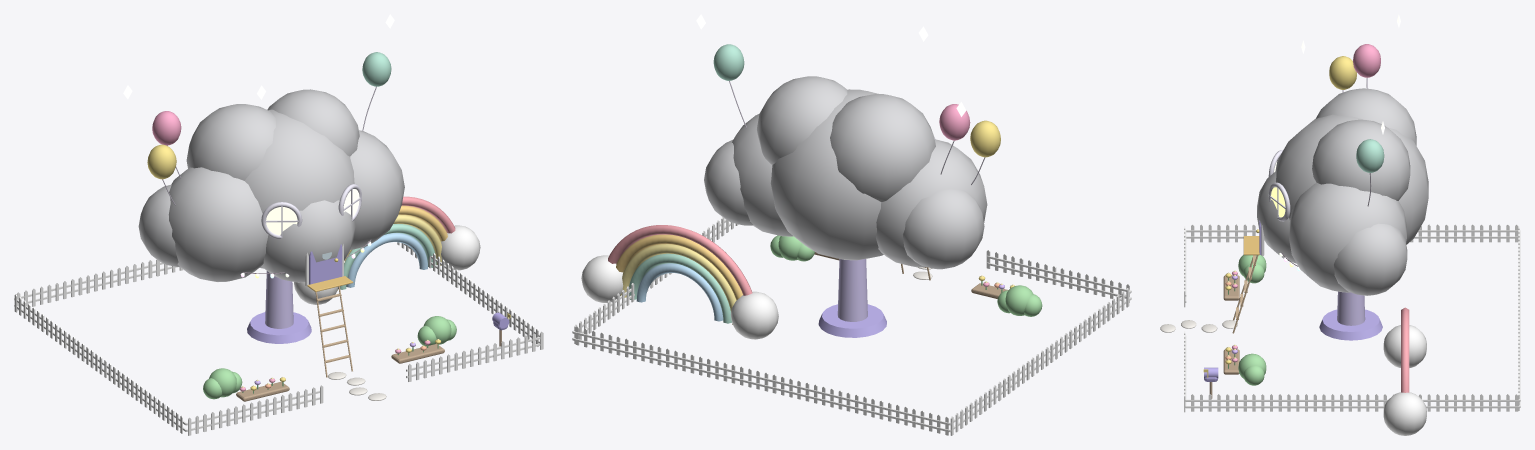
File: building_sky_L09.glb
3 renders of one model, left to right at view 1: azimuth 30°, elevation 25°; view 2: azimuth 150°, elevation 25°; view 3: azimuth 270°, elevation 25°, orthographic. The views are drawn at different scales.
Visible parts, largest first — view 1: Body, sky_L9; view 2: Body, sky_L9; view 3: Body, sky_L9.
Part boxes in pixels (x1,y1,x2,y2): Body: (123,14,480,377); sky_L9: (14,242,543,435); Body: (581,14,1000,339); sky_L9: (572,217,1131,435); Body: (1232,14,1428,435); sky_L9: (1160,224,1520,412).
Bounding box in the file's own units: 28.7 × 19.1 × 22.64.
